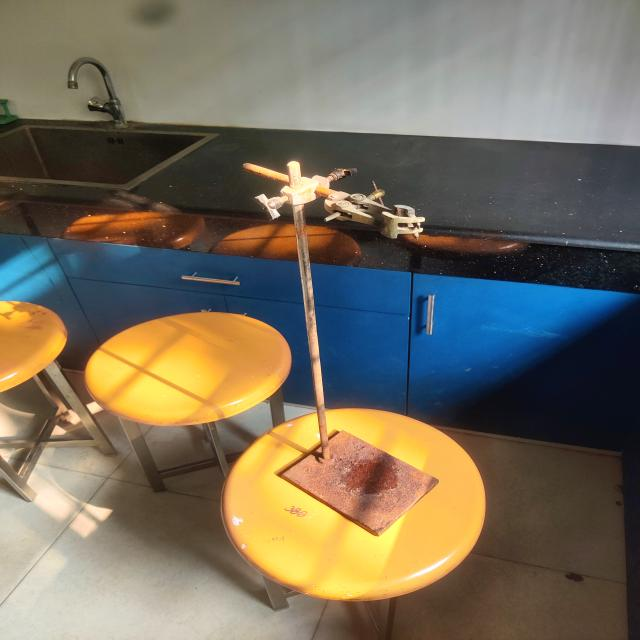Burette_Stands: (211, 126, 480, 565)
